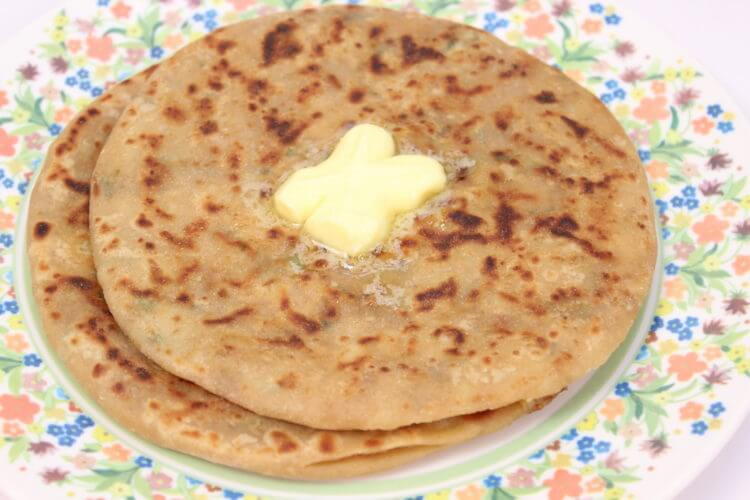aloo_paratha: (27, 6, 658, 481)
